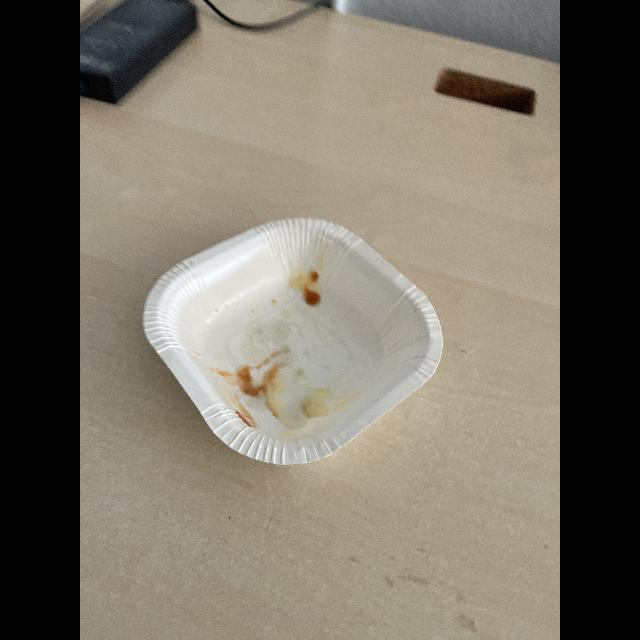cardboard_bowl: (137, 208, 451, 476)
